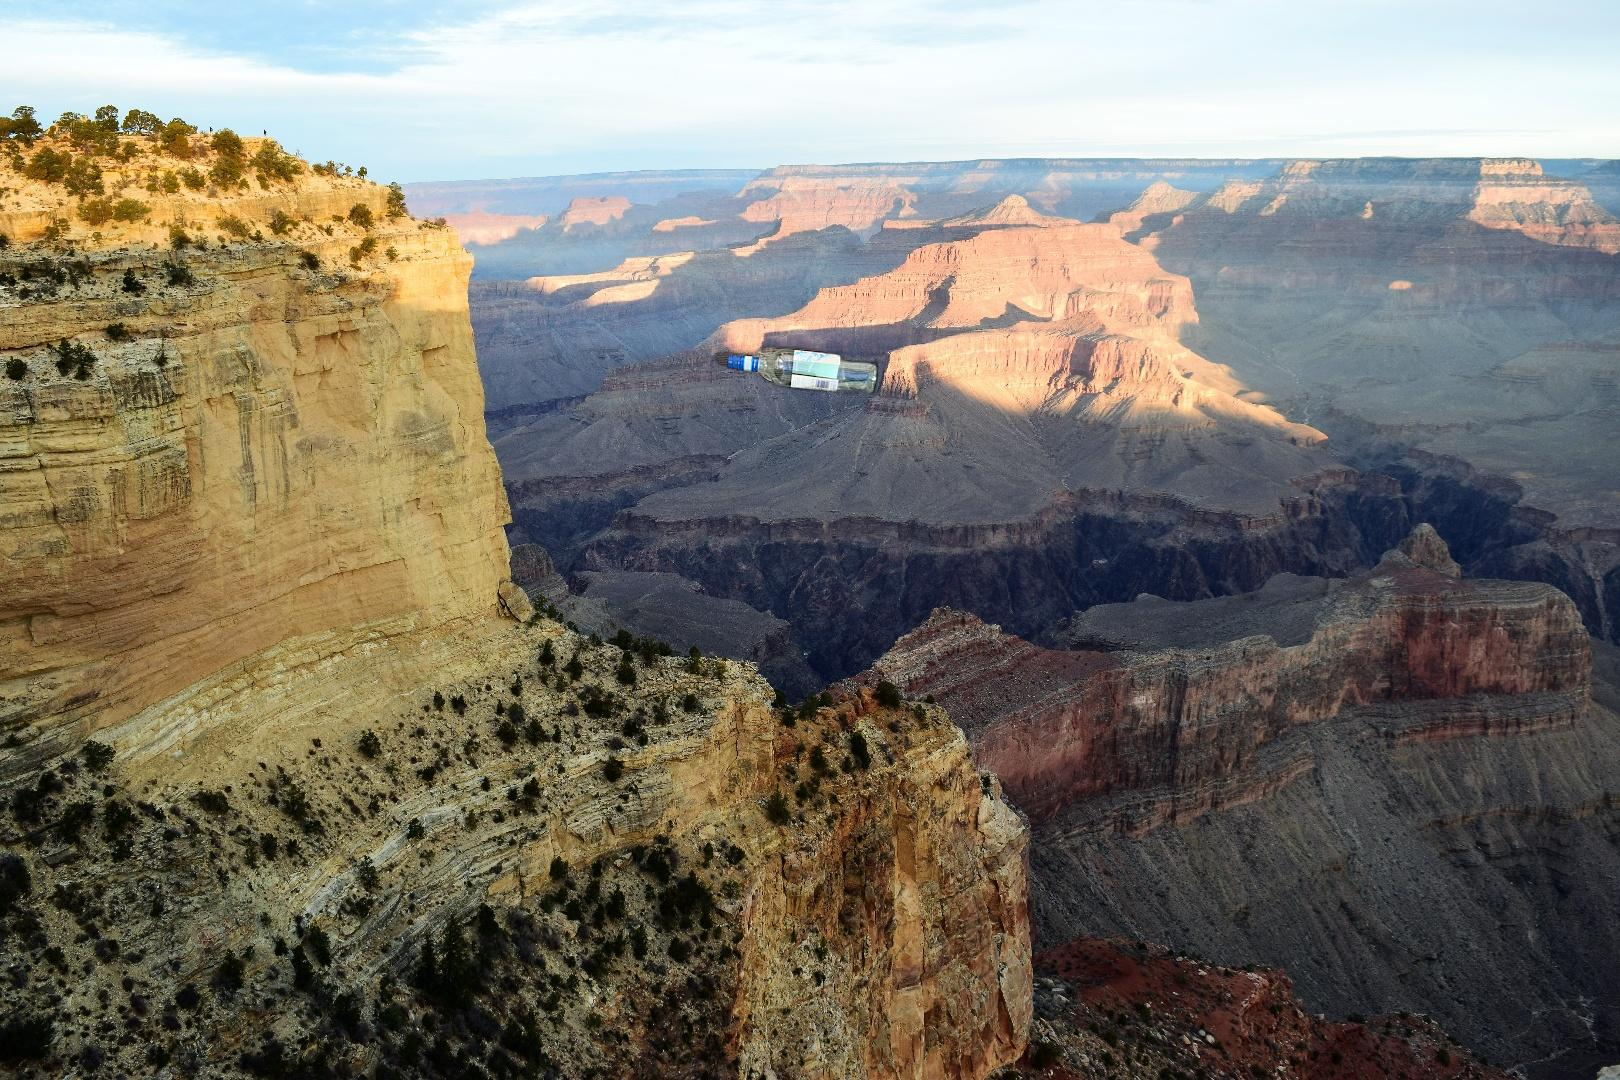glass: (713, 340, 883, 401)
